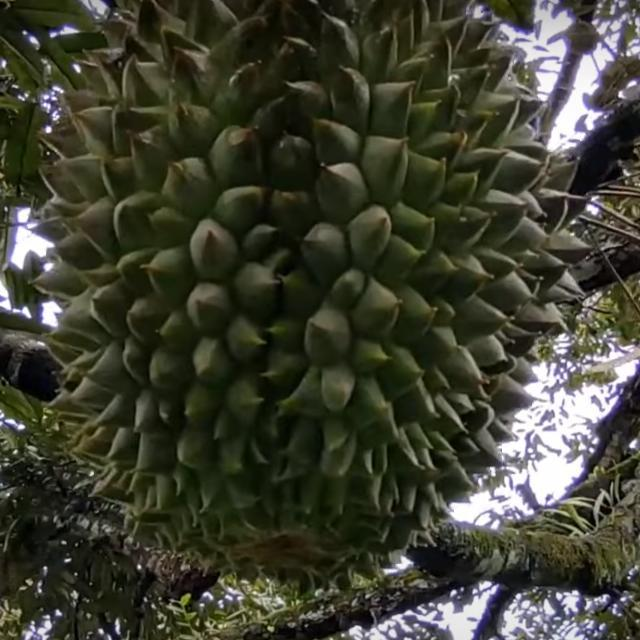immature: (28, 0, 585, 583)
